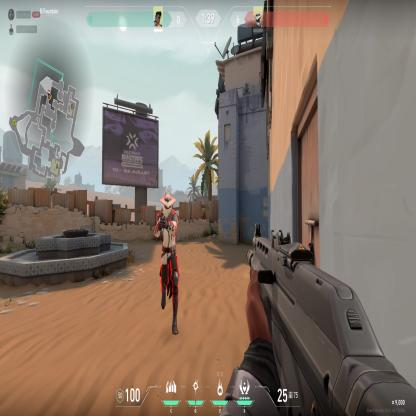enemy: (154, 191, 182, 340)
